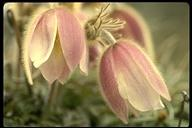flower: (7, 1, 169, 121)
